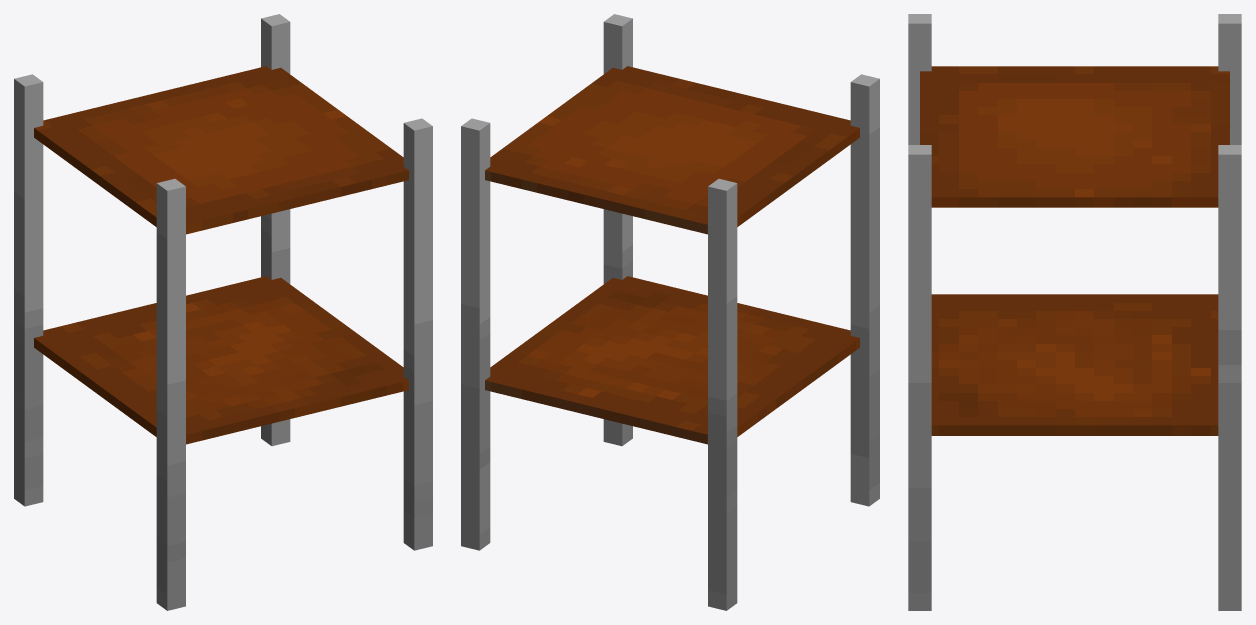
Rendered from Shelf.gltf.
3 renders of one model, left to right at view 1: azimuth 30°, elevation 25°; view 2: azimuth 150°, elevation 25°; view 3: azimuth 270°, elevation 25°, orthographic. The views are drawn at different scales.
Parts seen in each view (by area): view 1: cuboid (×6); view 2: cuboid (×6); view 3: cuboid (×6).
Part boxes in pixels (x1,y1,x2,y2): cuboid (×6): [14, 14, 432, 610]; cuboid (×6): [461, 14, 879, 610]; cuboid (×6): [908, 14, 1241, 610].
Bounding box in the file's own units: 1.08 × 1.62 × 1.08.
Materials: 1 (1 with a texture image).
